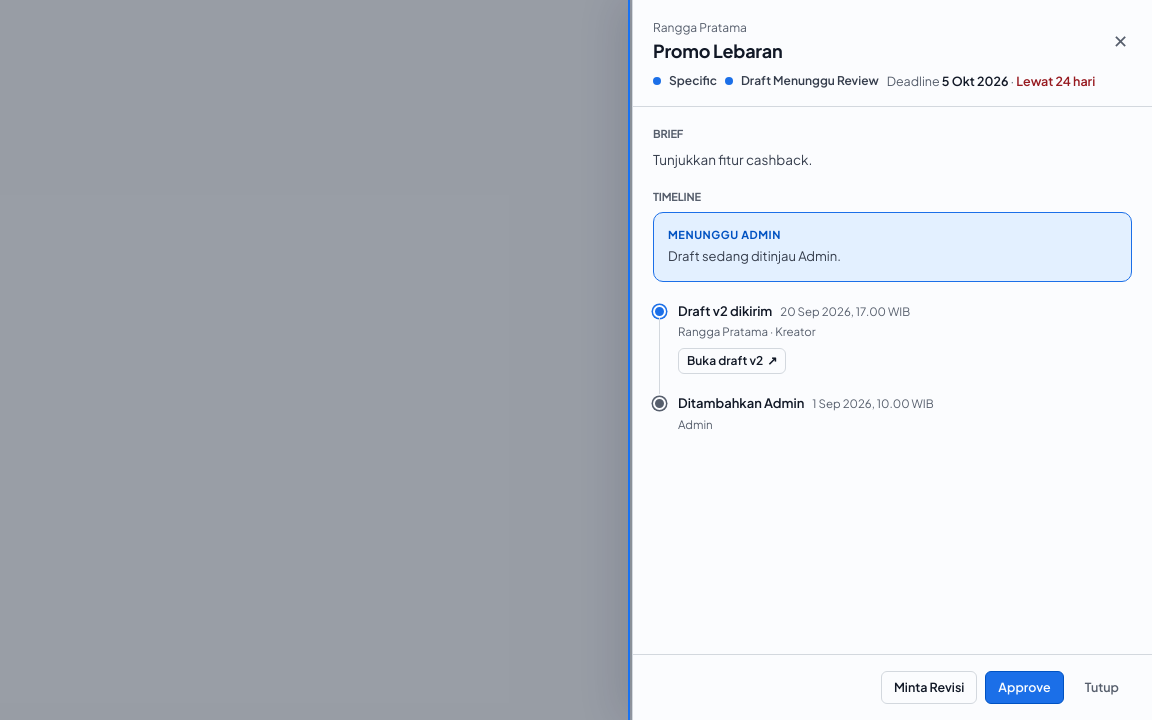
Scenario: ContentDetailPanel › re-reads the content after a 409, so the step stops offering a decision already taken
The width and height of the screenshot is (1152, 720).
Click the button "Approve".
click(1025, 688)  # box [985, 671, 1064, 704]
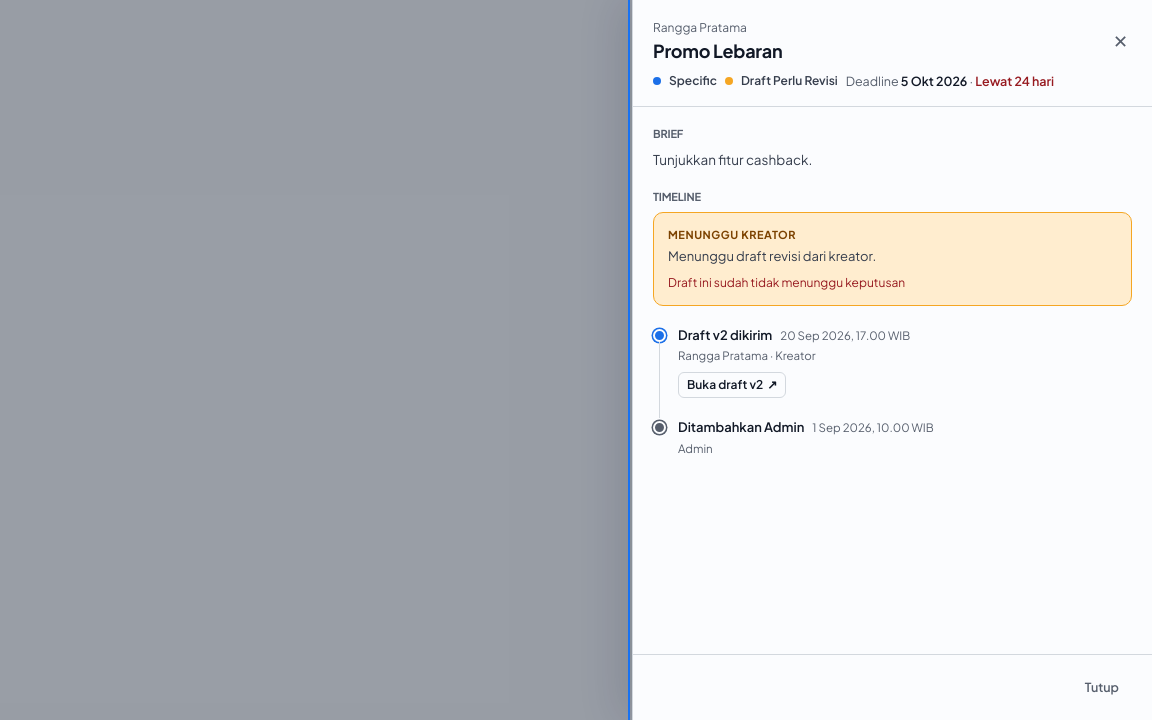
Expected: the text "Draft ini sudah tidak menunggu keputusan" is shown, [668, 275, 905, 290]
Expected: the button "Approve" is gone
Expected: the text "Draft Perlu Revisi" is shown, [725, 73, 838, 89]
